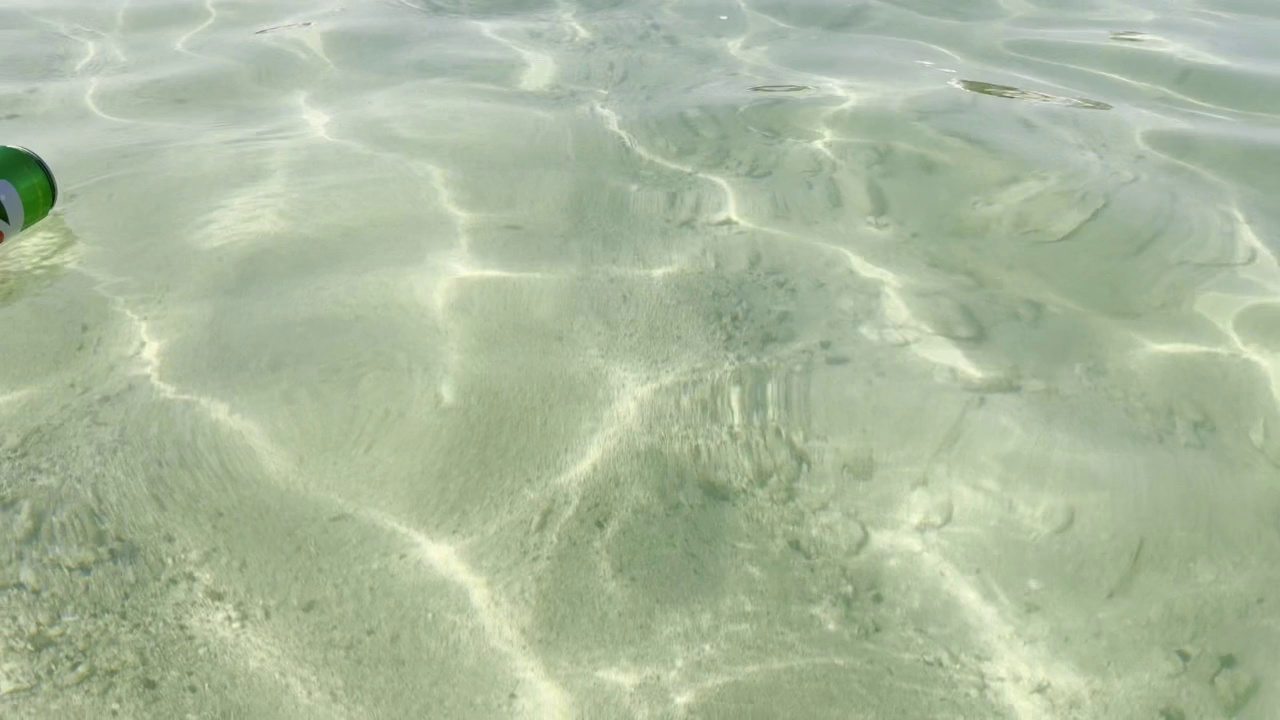debris: (0, 136, 60, 245)
